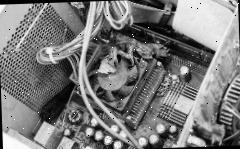electronic: (32, 1, 210, 136)
